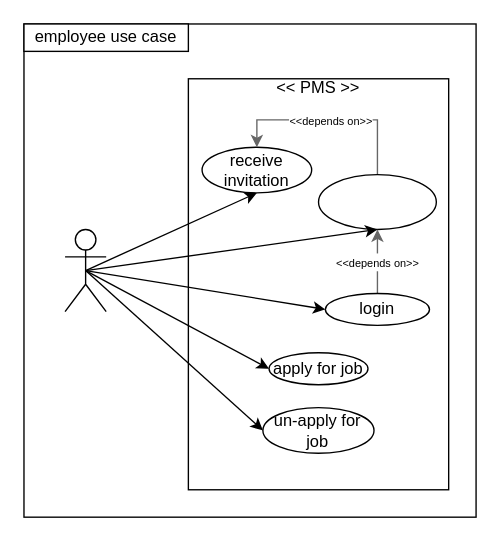
Image size: 500x541. Some labels were removed from this diagram. The centre of each missing label's shape, as x and y in pixels:
"employee" belongs at (85,270).
"register to service" belongs at (376,201).
